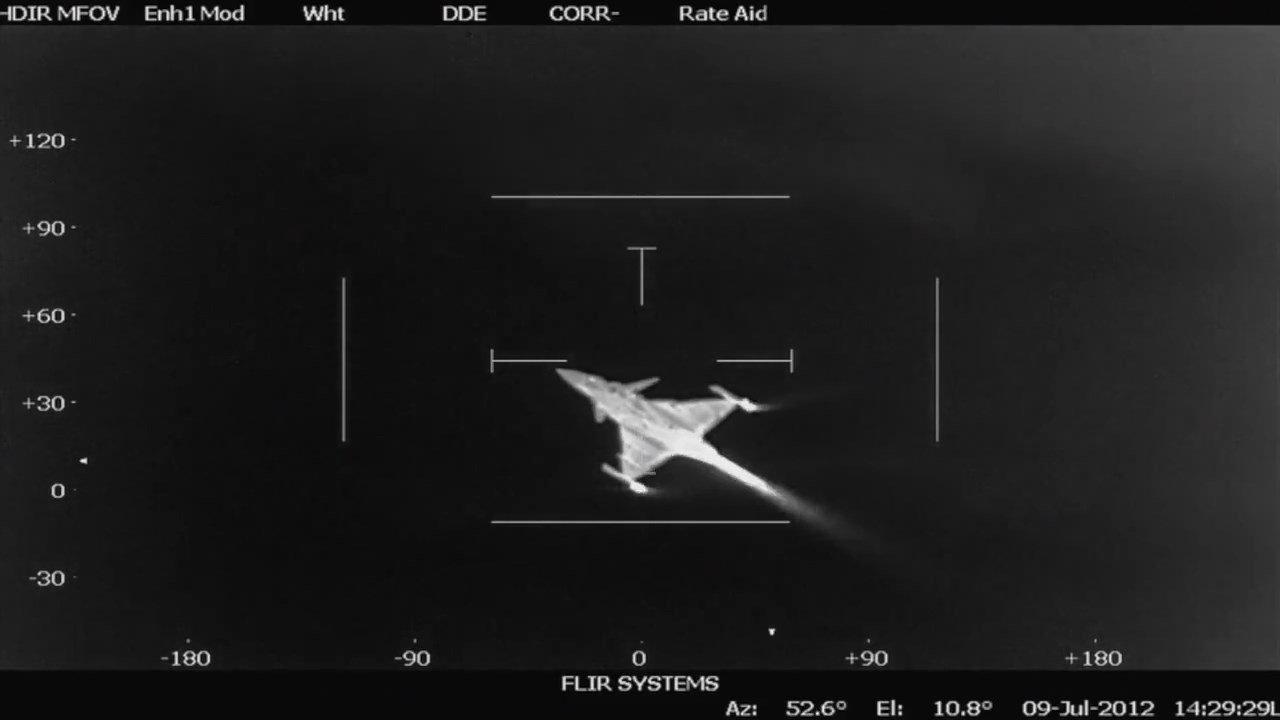JAS39: (554, 367, 753, 492)
